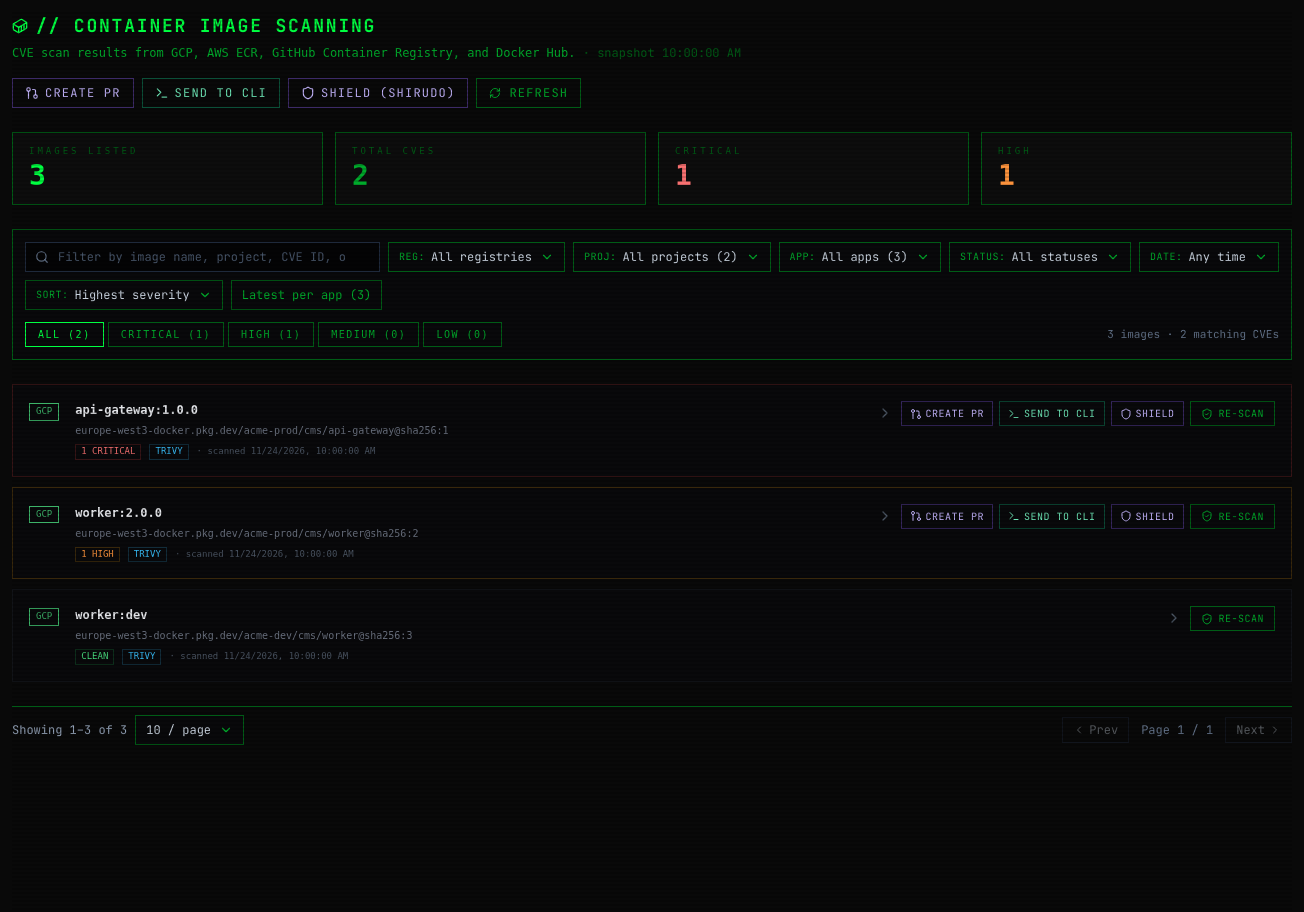
Test case: ContainerScanPage › provides an APP dropdown with all available image apps and filters cleanly
Expected: the text "api-gateway:1.0.0" is shown, [75,403,198,417]
Click the button with aria-label "Filter by image app": (860, 257) [779,242,941,272]
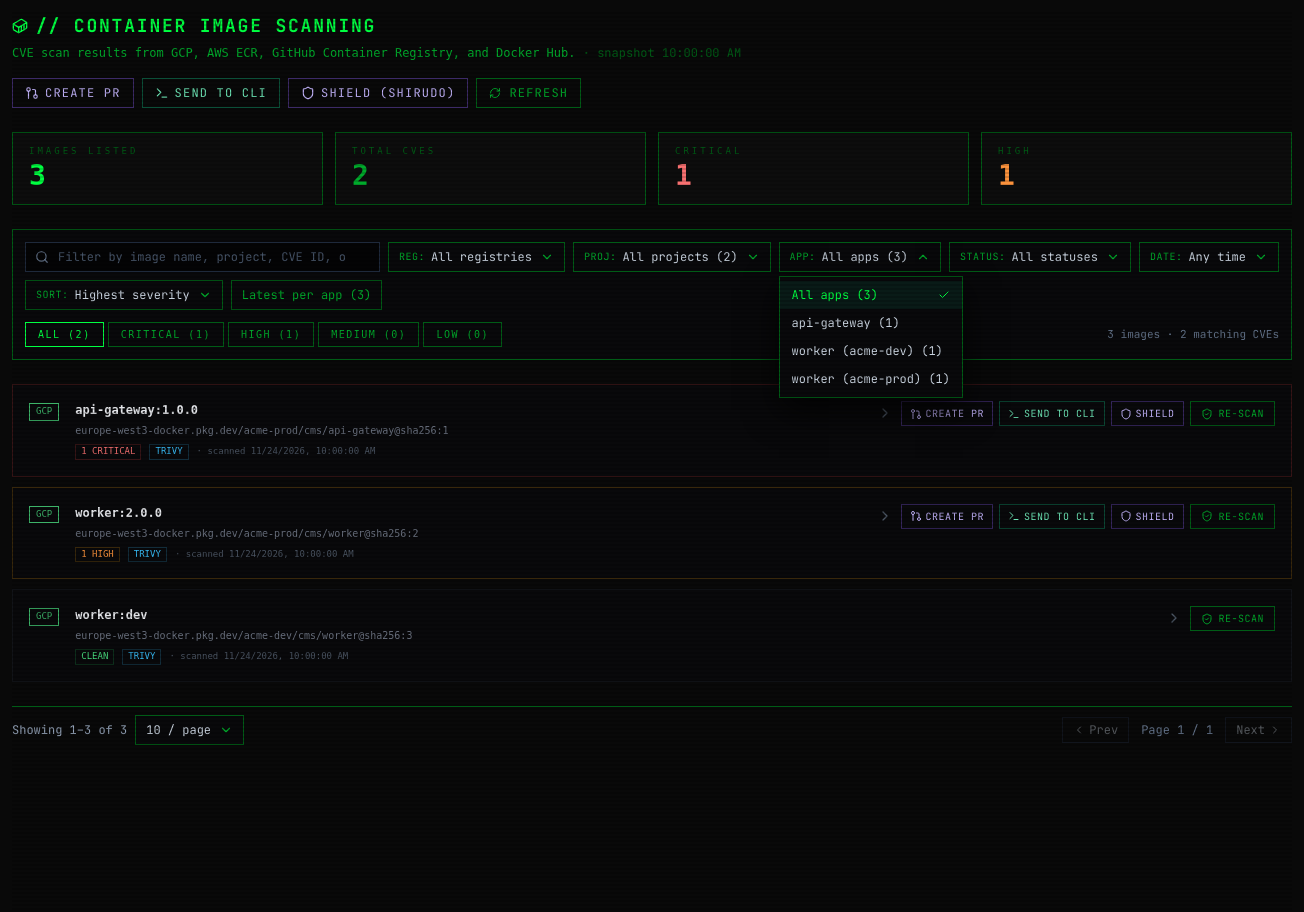
Expected: the option "All apps (3)" is shown, [780,281,962,309]
Expected: the option "api-gateway (1)" is shown, [780,309,962,337]
Expected: the option "worker (acme-prod) (1)" is shown
Click the option "worker (acme-prod) (1)": (871, 379) [780,365,962,393]
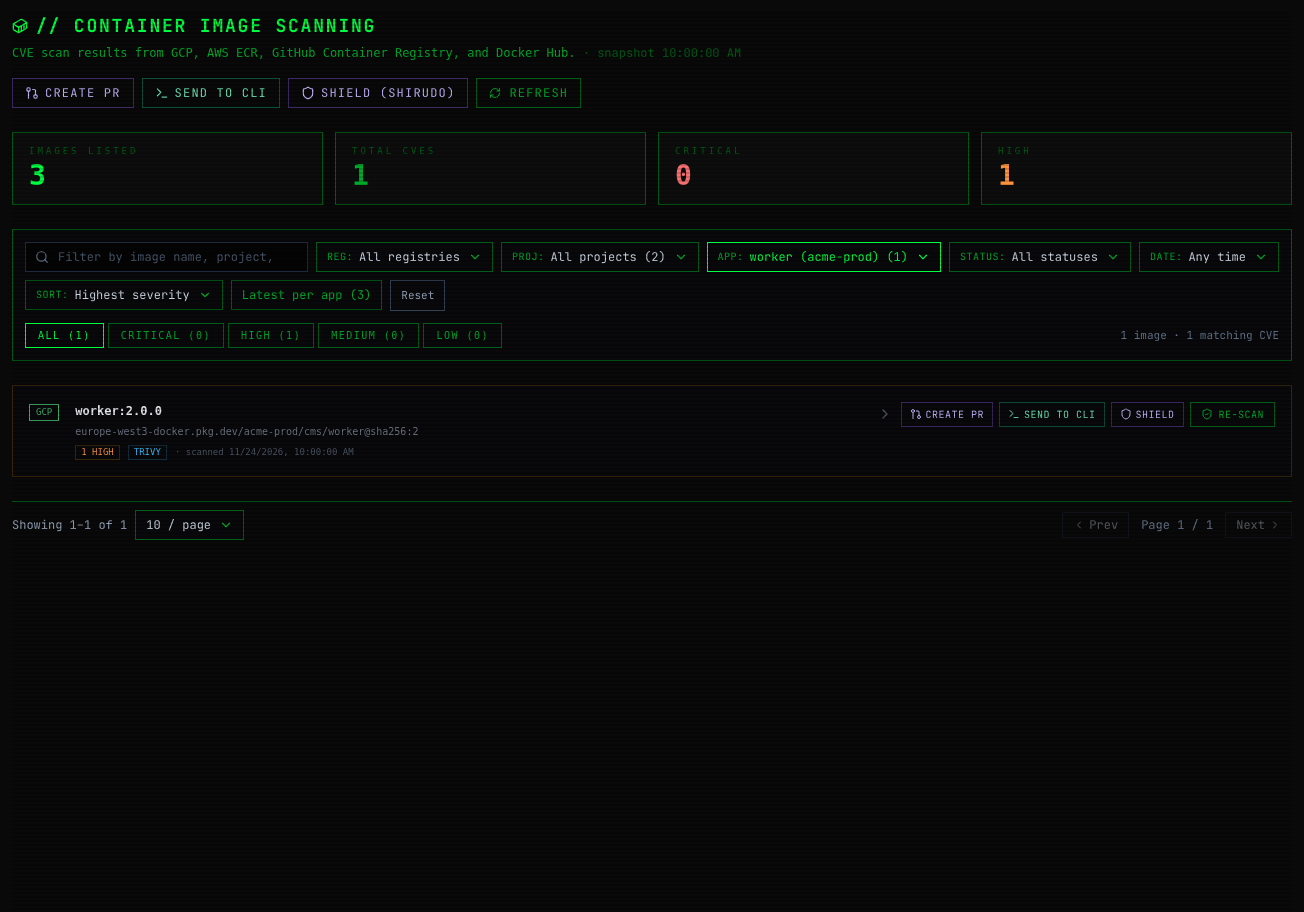
Expected: the button "api-gateway:1.0.0" is gone
Expected: the button "worker:dev" is gone
Expected: the button "Critical (0)" is shown, [108,323,224,348]
